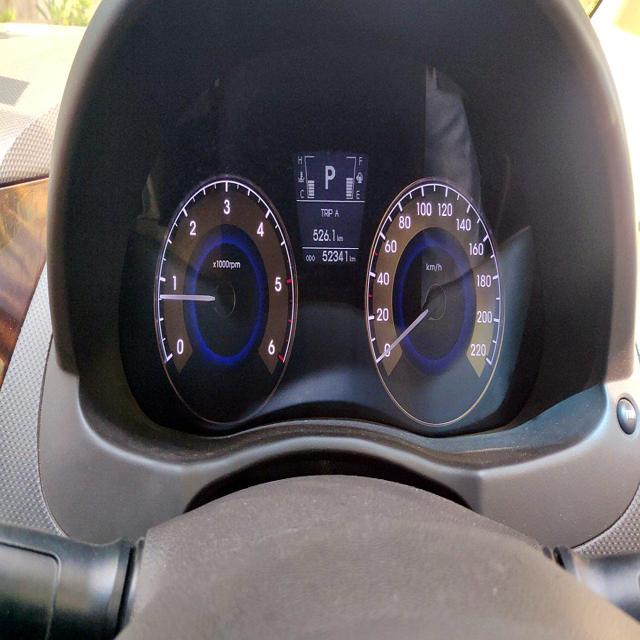odometer: (321, 248, 348, 264)
